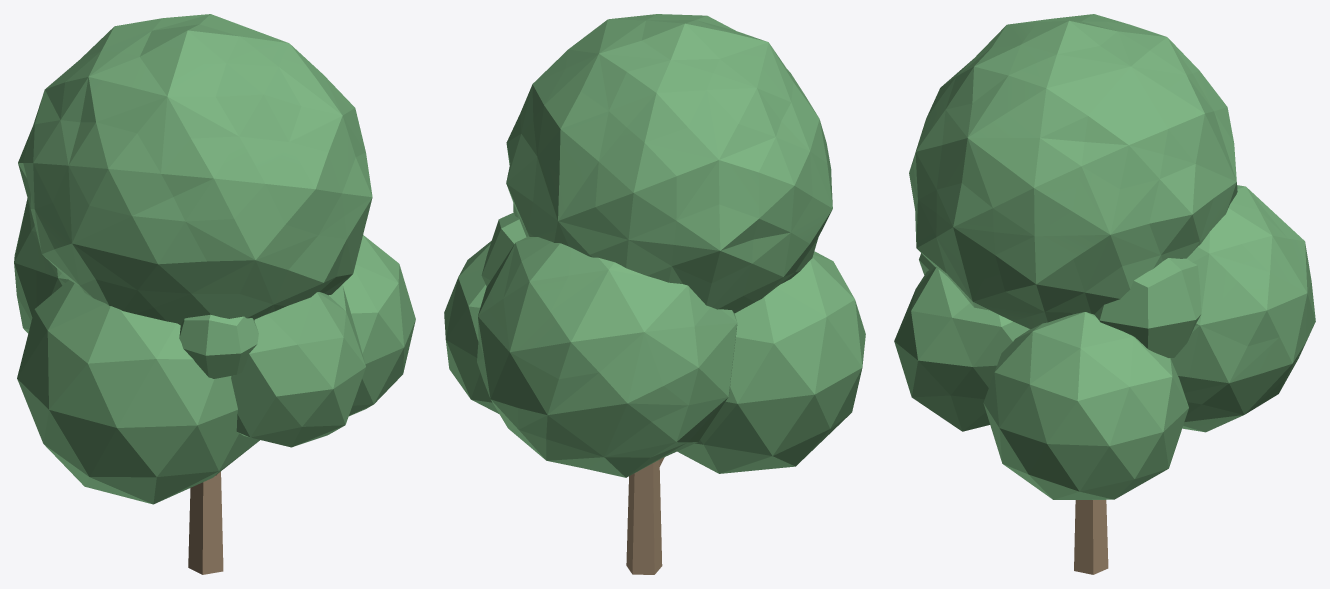
File: tree-lime.glb
3 views of the same model, side by side, from view 1: azimuth 30°, elevation 25°; view 2: azimuth 150°, elevation 25°; view 3: azimuth 270°, elevation 25° (orthographic). The views are drawn at different scales.
Parts seen in each view (by area): view 1: tree_lime; view 2: tree_lime; view 3: tree_lime.
Part boxes in pixels (x1,y1,x2,y2): tree_lime: (14,14,415,574); tree_lime: (444,14,865,574); tree_lime: (894,14,1315,574).
Bounding box in the file's own units: 707 × 974 × 700.
